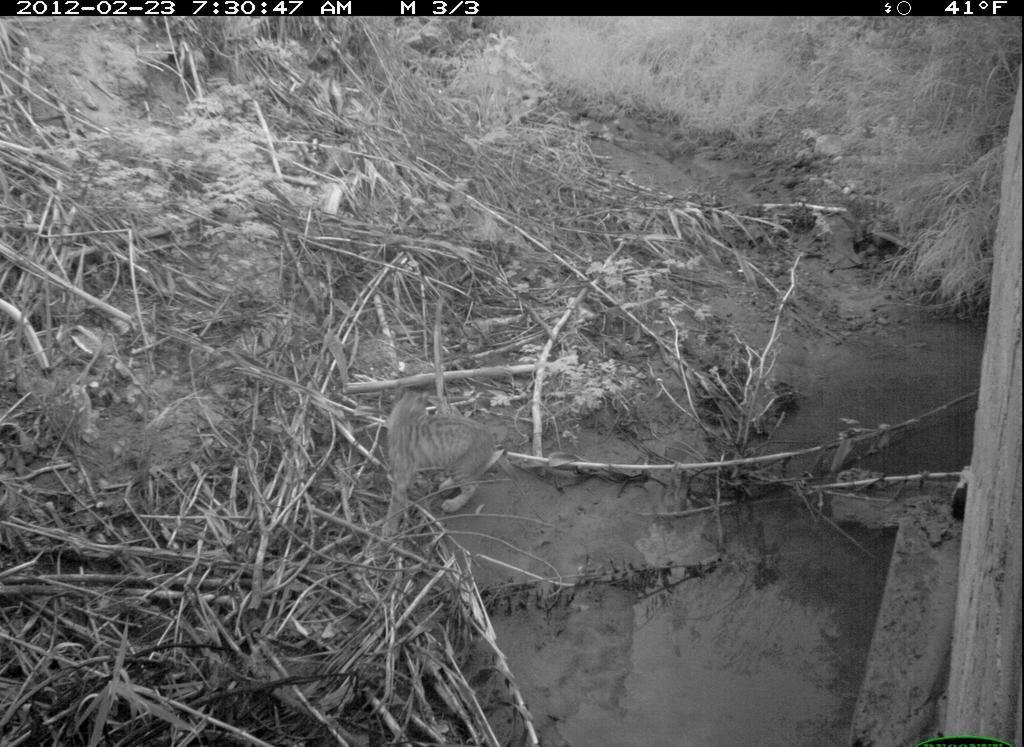opossum: (377, 381, 525, 545)
